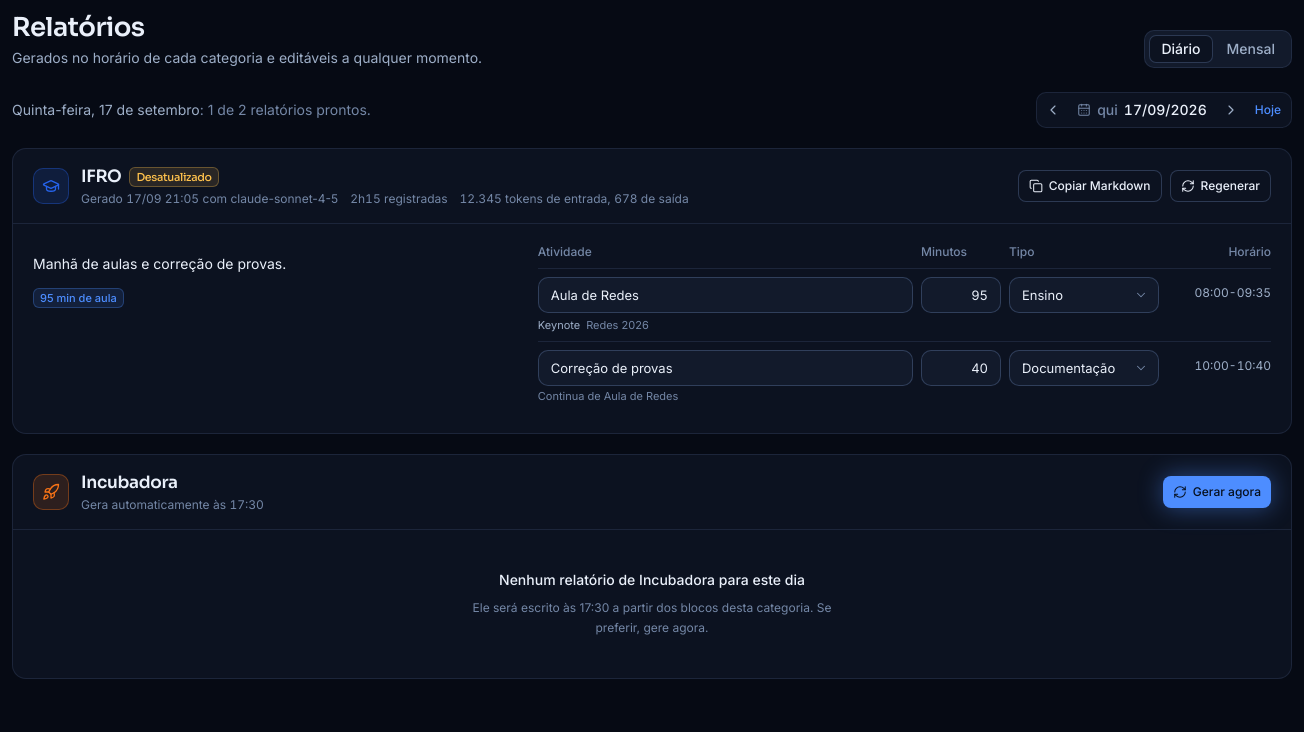
Test: Reports page › renders the daily chrome in Portuguese: status line, badges, table and per-category empty state
The image size is (1304, 732).
Check: the heading "Relatórios" is shown, box x1=12 y1=11 x2=145 y2=44
Check: the text ": 1 de 2 relatórios prontos." is shown, box x1=200 y1=101 x2=371 y2=118
// editing a row surfaces the save action
Replace the text in the number field named "Minutos" in the row of "08:00-09:35" with "100" at (961, 295), box x1=921 y1=277 x2=1001 y2=313
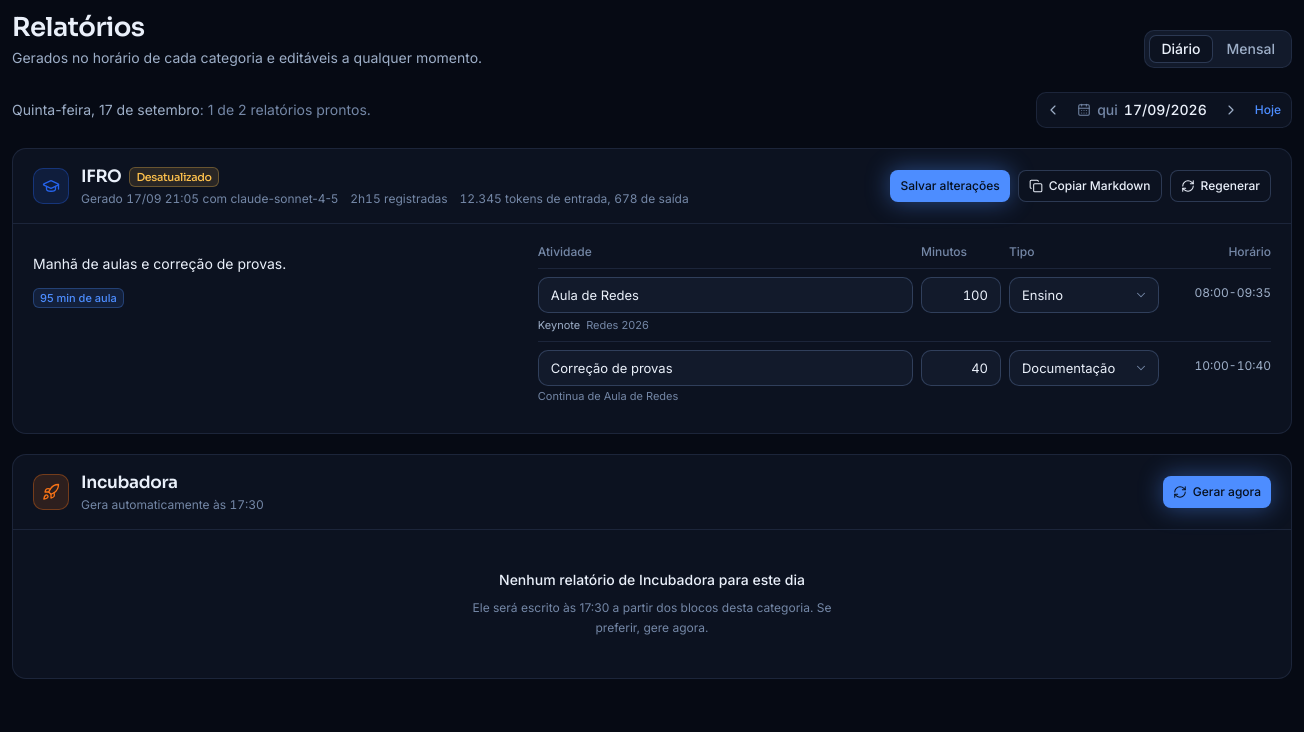
Check: the button "Salvar alterações" is shown, box x1=890 y1=170 x2=1010 y2=202
